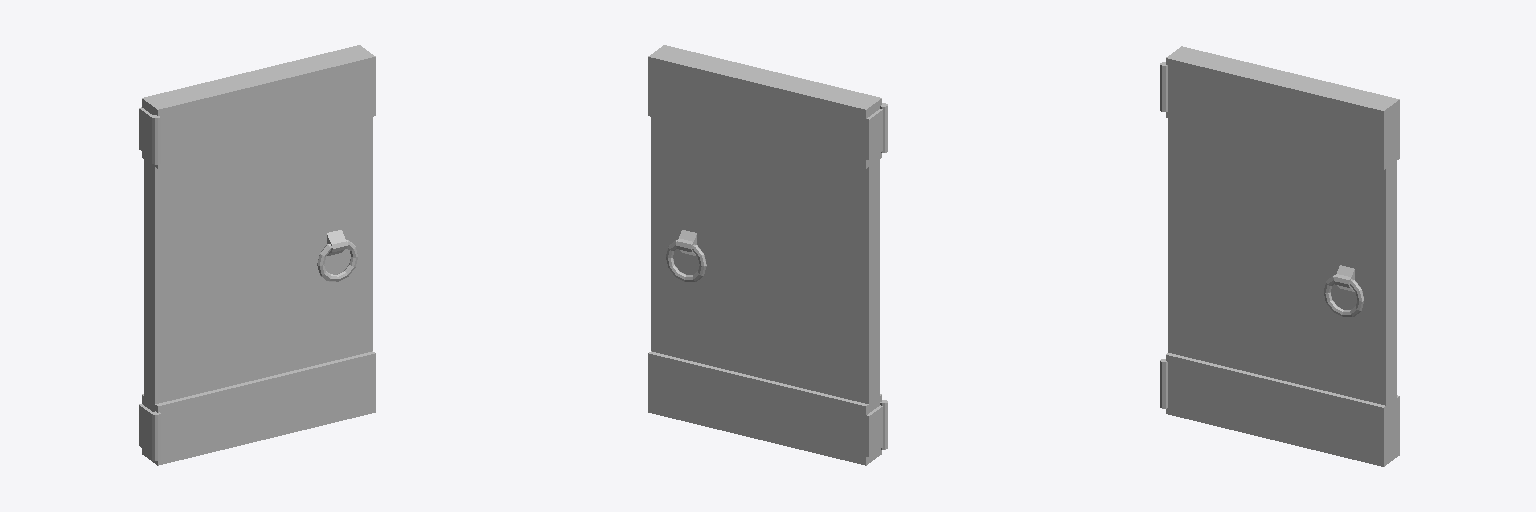
Rendered from castle_door.obj.
3 views of the same model, side by side, from view 1: azimuth 30°, elevation 25°; view 2: azimuth 150°, elevation 25°; view 3: azimuth 330°, elevation 25° (orthographic).
Parts seen in each view (by area): view 1: polySurface6, Scene_Root; view 2: polySurface6, Scene_Root; view 3: polySurface6, Scene_Root.
Part boxes in pixels (left/top/right/bottom): polySurface6: left=142, top=45, right=375, bottom=465; Scene_Root: left=139, top=107, right=160, bottom=460; polySurface6: left=648, top=45, right=881, bottom=465; Scene_Root: left=866, top=103, right=887, bottom=456; polySurface6: left=1166, top=46, right=1399, bottom=466; Scene_Root: left=1160, top=62, right=1167, bottom=408.
Size of the model in its own units: 1.79 by 2.73 by 0.3161.